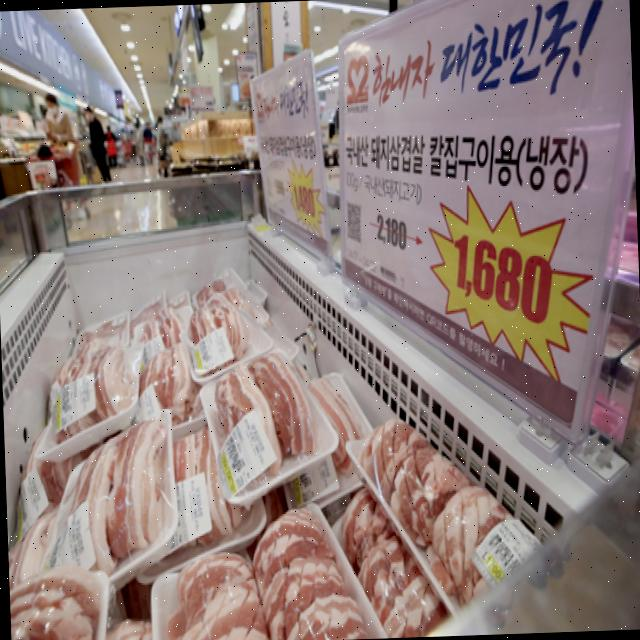meat: (25, 241, 501, 640)
